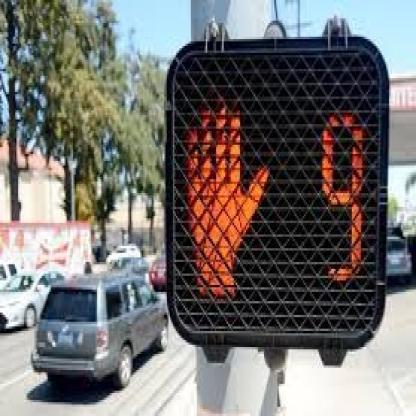Don-t Walk: (168, 36, 282, 351)
